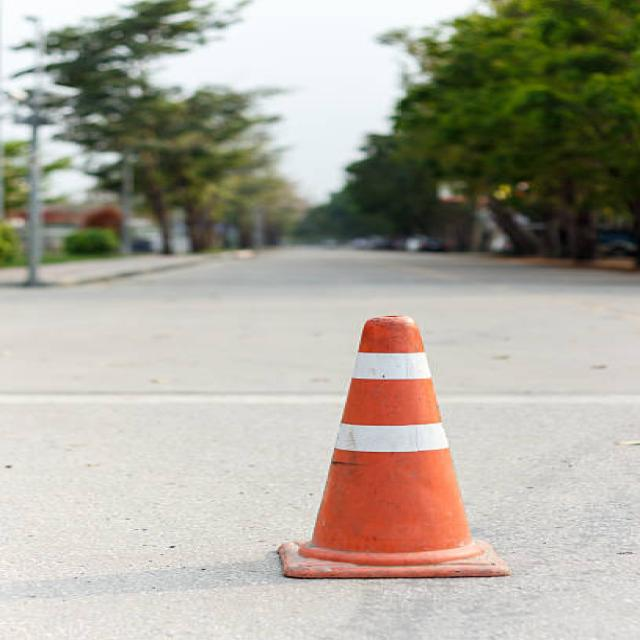Traffic Cone: (214, 272, 549, 615)
